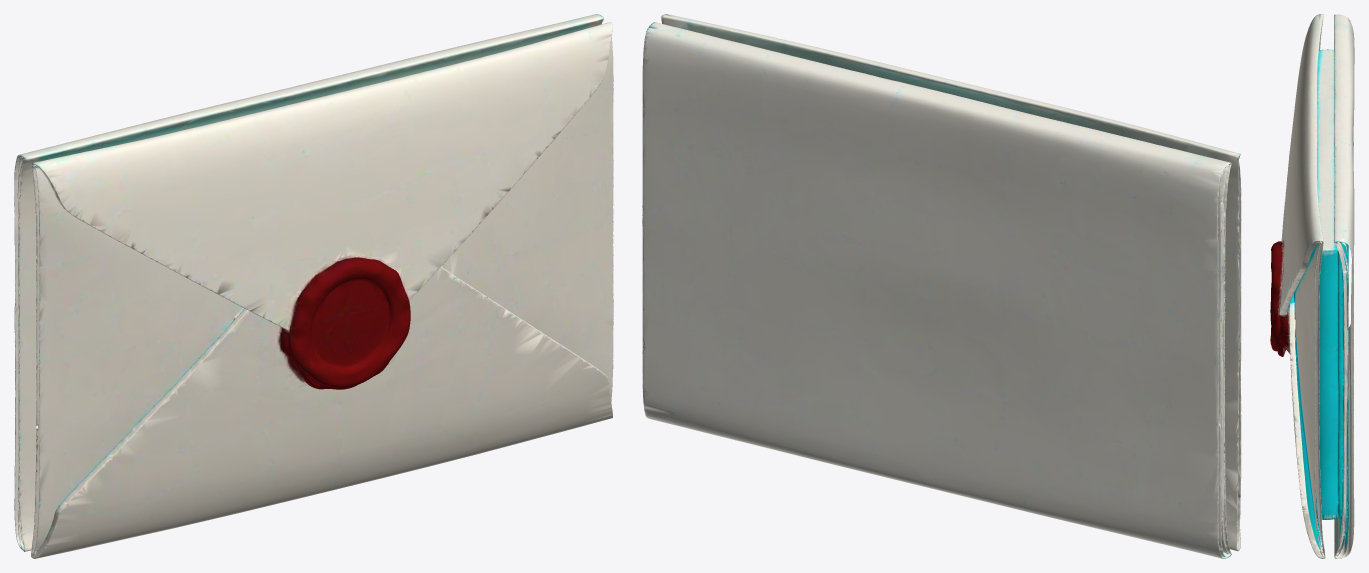
The model's file is Meshy_AI_cream_envelope_with_r_0323012924_texture.glb.
3 views of the same model, side by side, from view 1: azimuth 30°, elevation 25°; view 2: azimuth 150°, elevation 25°; view 3: azimuth 270°, elevation 25° (orthographic). The views are drawn at different scales.
Bounding box in the file's own units: 1.9 × 1.24 × 0.297.
1 material, 1 textured.
